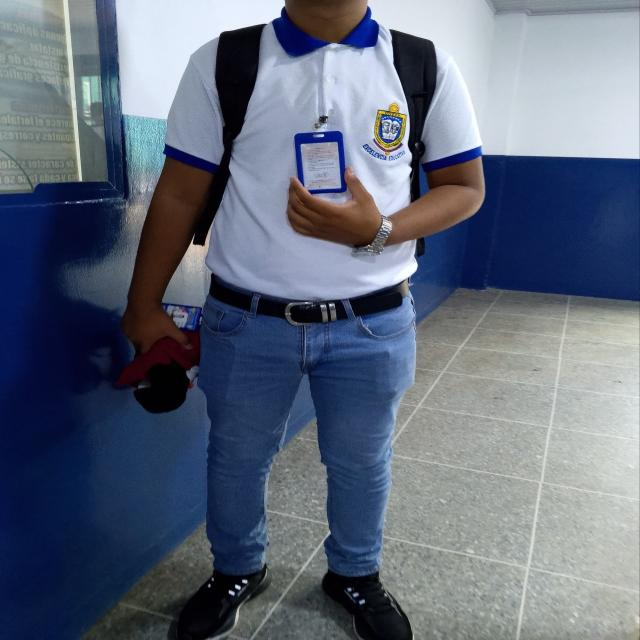carnet: (300, 141, 342, 190), (154, 303, 193, 355)
uniforme_superior: (162, 5, 482, 301)
